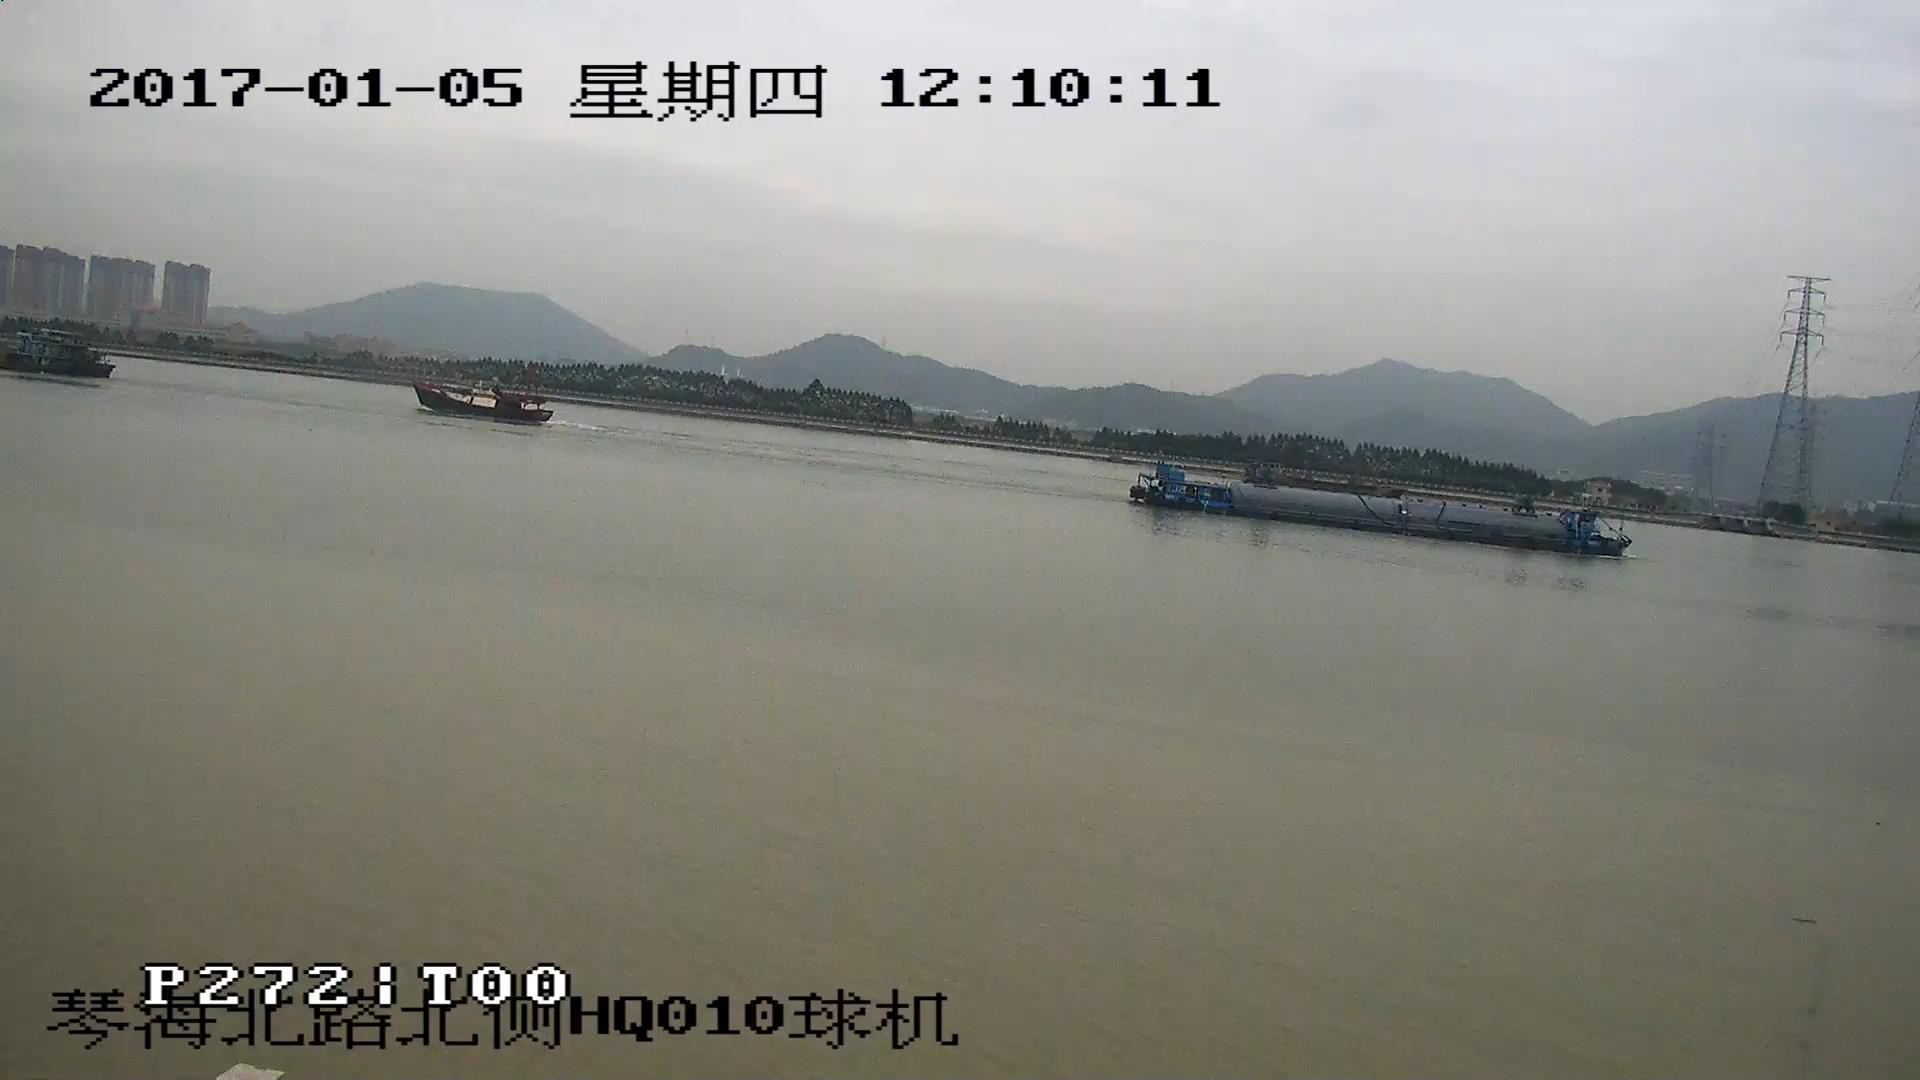bulk cargo carrier: (1136, 460, 1621, 558)
fishing boat: (421, 382, 550, 424)
